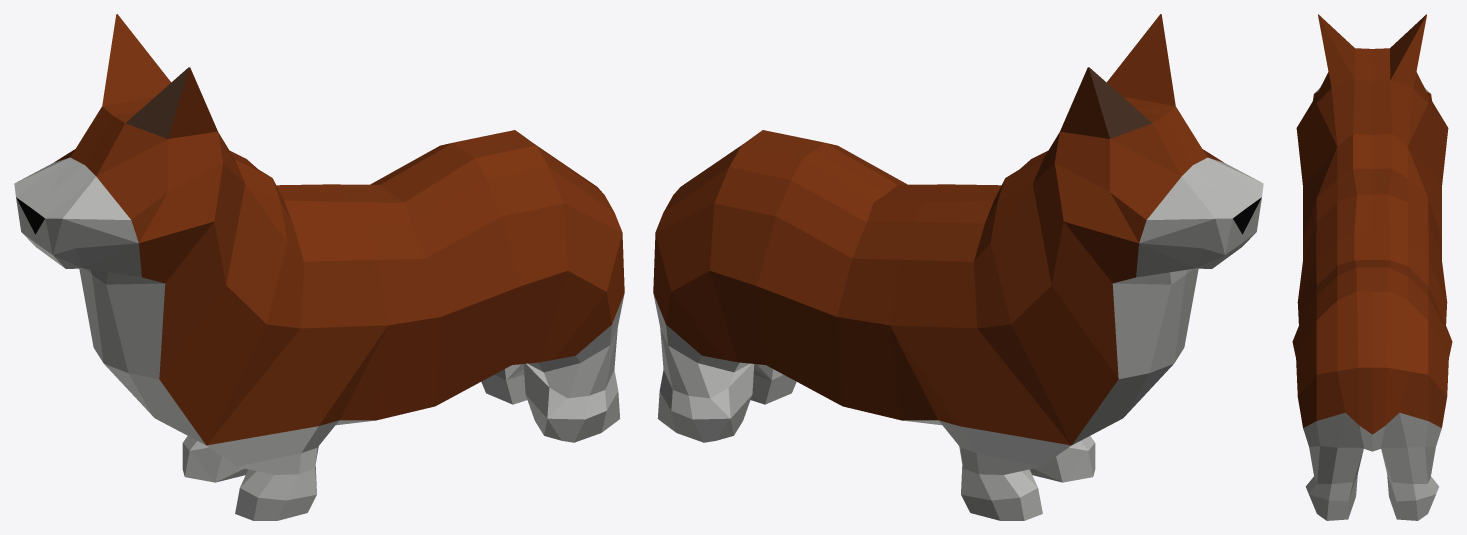
File: dog.FBX
The picture shows the model from 3 angles, left to right: view 1: azimuth 30°, elevation 25°; view 2: azimuth 150°, elevation 25°; view 3: azimuth 270°, elevation 25°; orthographic projection. The views are drawn at different scales.
Visible parts, largest first — view 1: Plane004; view 2: Plane004; view 3: Plane004.
Part boxes in pixels (x1,y1,x2,y2): Plane004: (14,14,624,520); Plane004: (653,14,1263,520); Plane004: (1292,14,1452,520).
Size of the model in its own units: 142 by 111 by 45.38.
